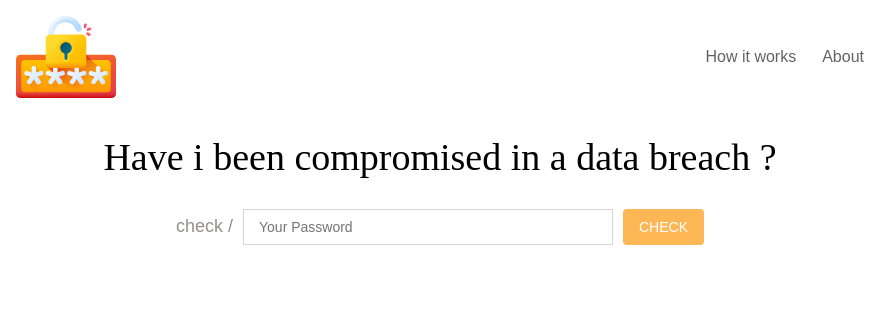
Password Checker form › loads pwned password counts that are rendered on the page
The width and height of the screenshot is (881, 324).
In the password field labelled "check /": {"x": 428, "y": 227} [243,209,613,245], type "supersecretpassword"
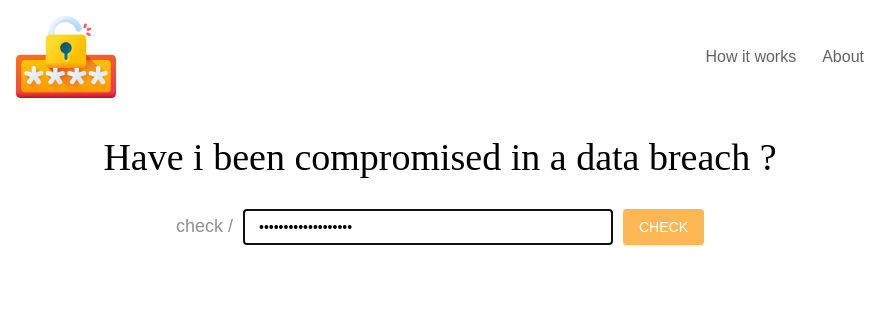
Click the button "Check": {"x": 664, "y": 227} [623,209,704,245]
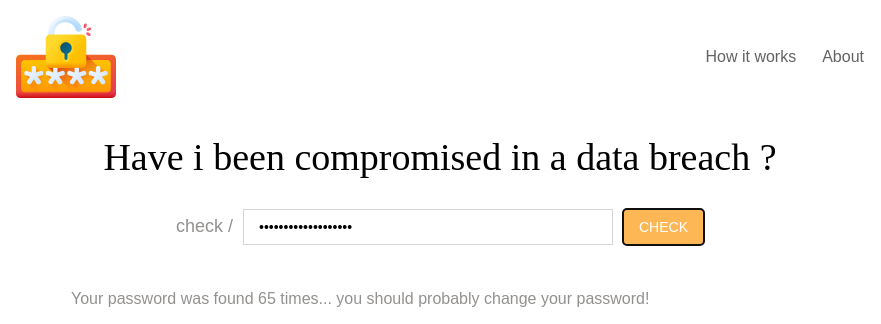
Check: the text "Your password was found 65 times... you should probably change your password!" is shown, box [71,290,649,307]
